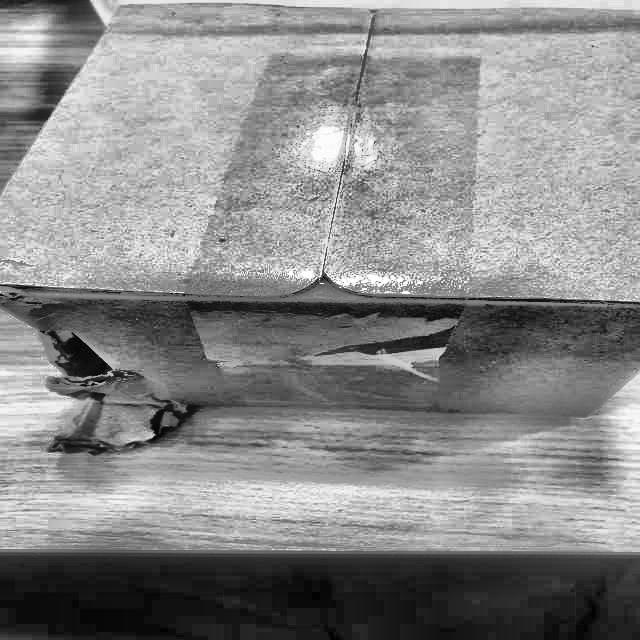box: (0, 2, 639, 460)
hole: (32, 329, 140, 391)
